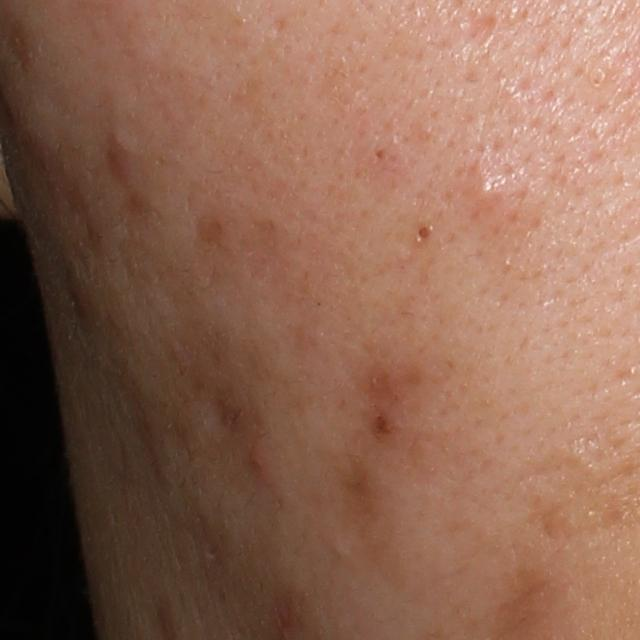atrophic_scar: (329, 454, 371, 519), (453, 10, 501, 48)
comedo: (411, 221, 437, 243)
